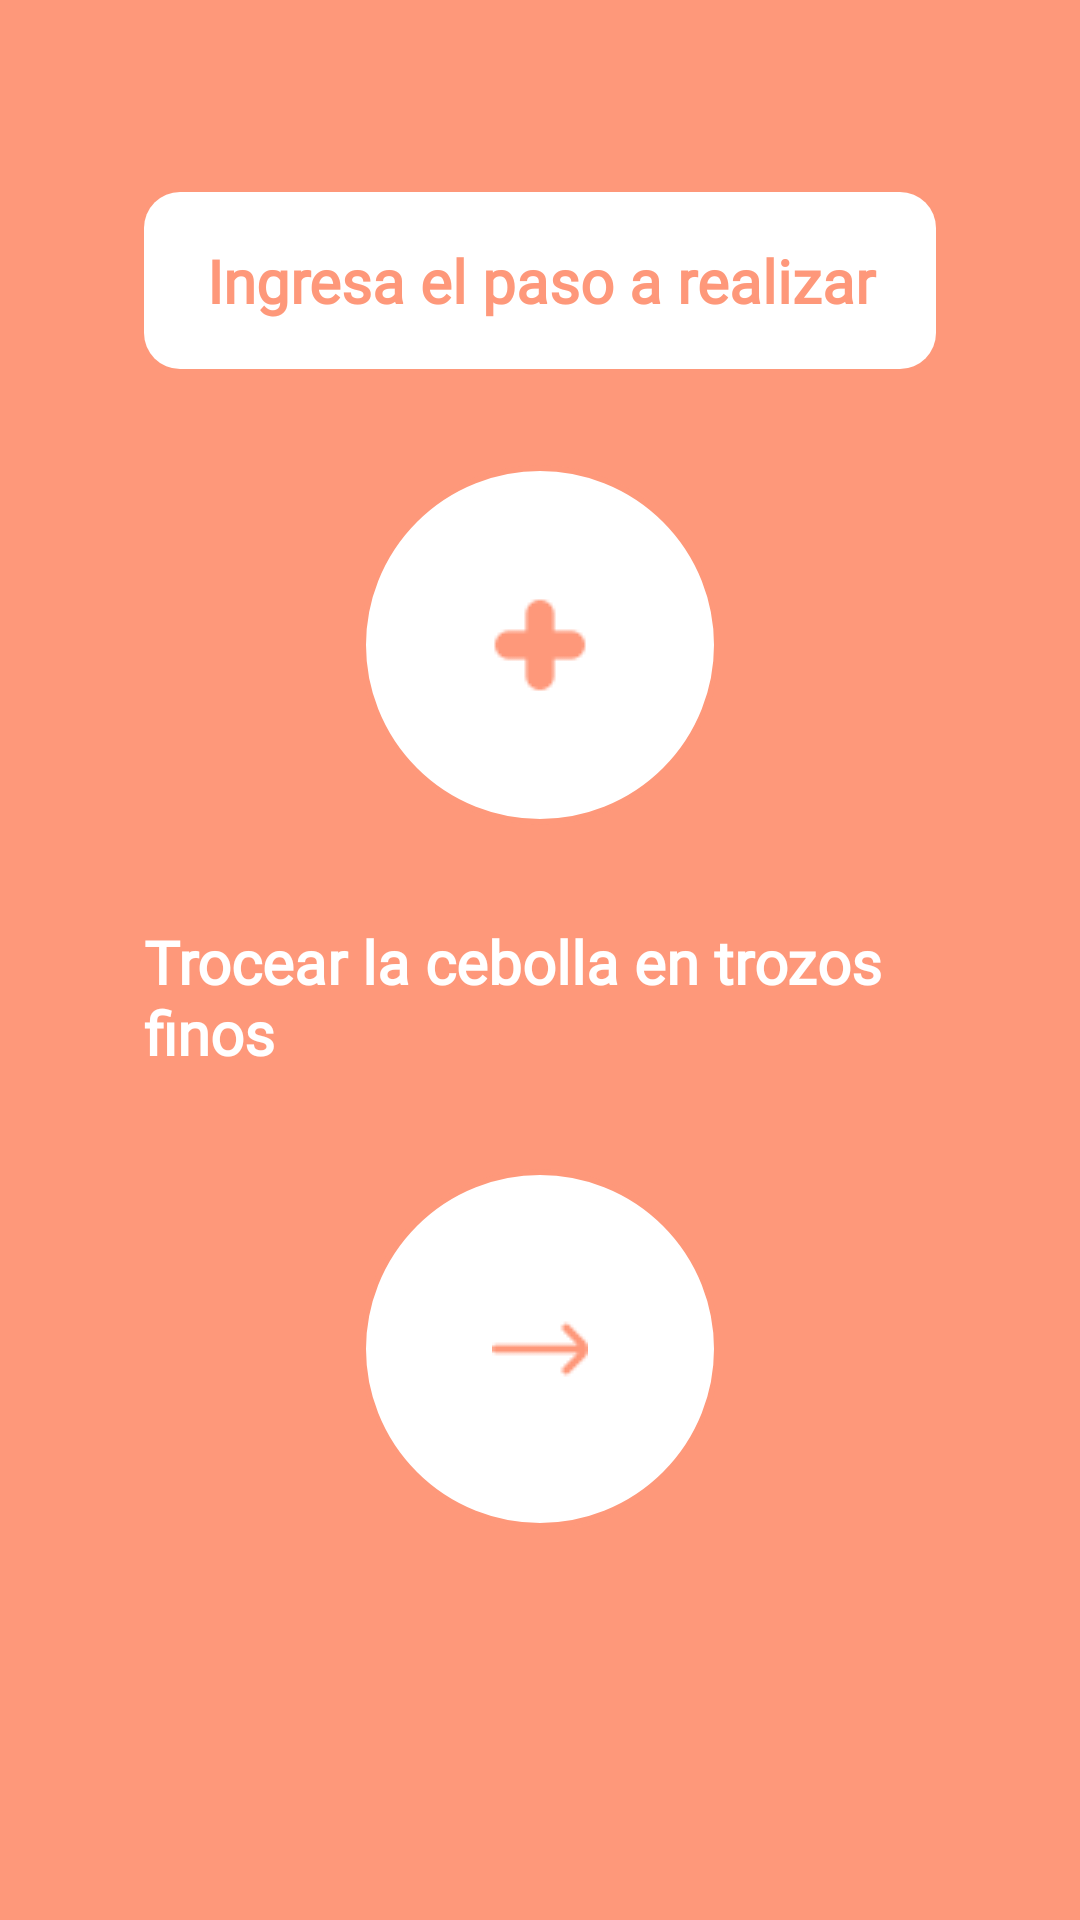

Screen size 1080w x 1920h. Icon name, then its center in pixels as [x,y]:
agregar ingrediente: [540,645]
flecha derecha: [540,1349]
